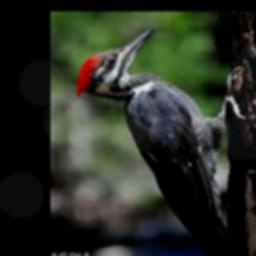Woodpecker: (75, 25, 246, 256)
